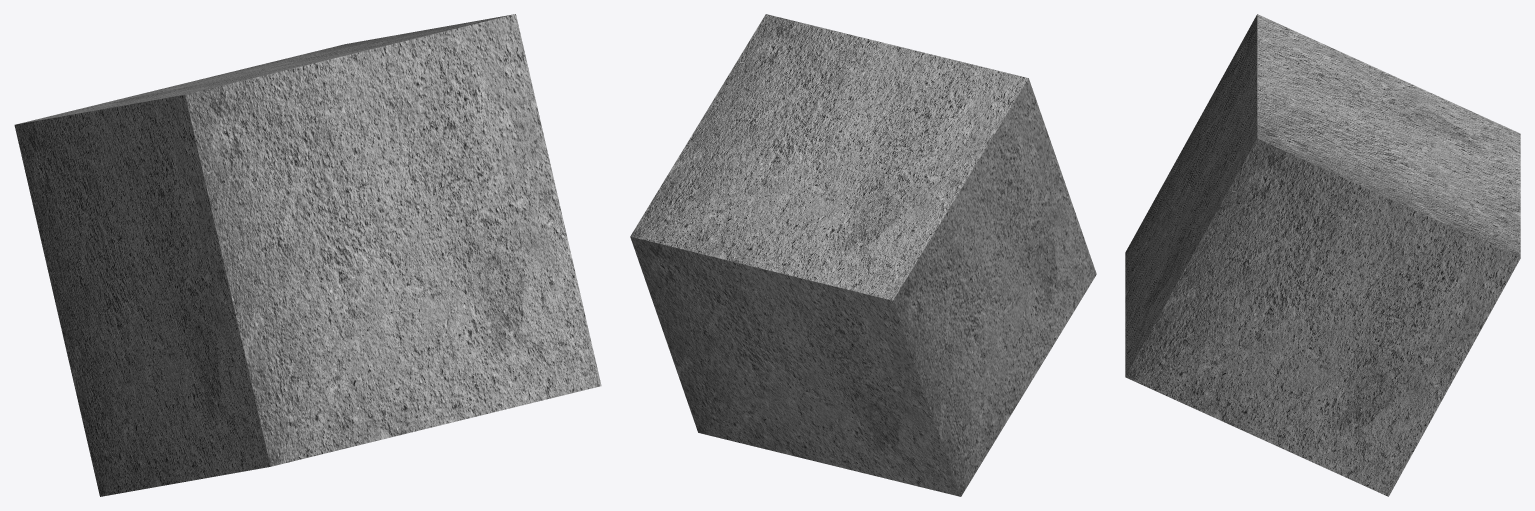
The model's file is asset.glb.
3 views of the same model, side by side, from view 1: azimuth 30°, elevation 25°; view 2: azimuth 150°, elevation 25°; view 3: azimuth 270°, elevation 25° (orthographic). The views are drawn at different scales.
Parts seen in each view (by area): view 1: Cube; view 2: Cube; view 3: Cube.
Part boxes in pixels (<box>): Cube: <box>14,14,601,496</box>; Cube: <box>630,14,1096,496</box>; Cube: <box>1125,14,1520,496</box>.
Bounding box in the file's own units: 200 × 268 × 268.
1 material, 1 textured.
